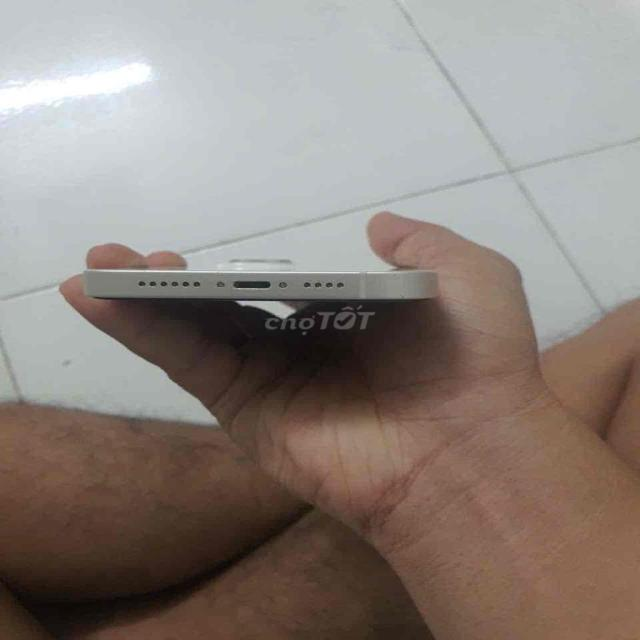gen_14: (63, 249, 461, 320)
scratch: (398, 288, 416, 304), (376, 268, 400, 280)
